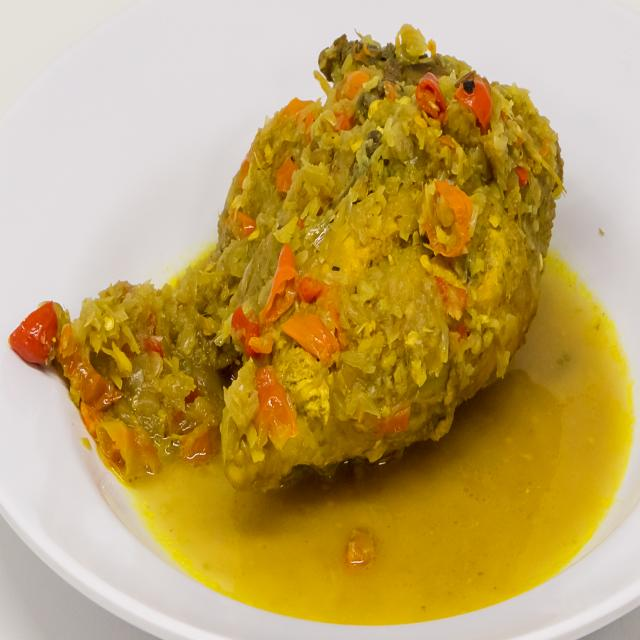Ayam-Betutu: (55, 13, 572, 500)
